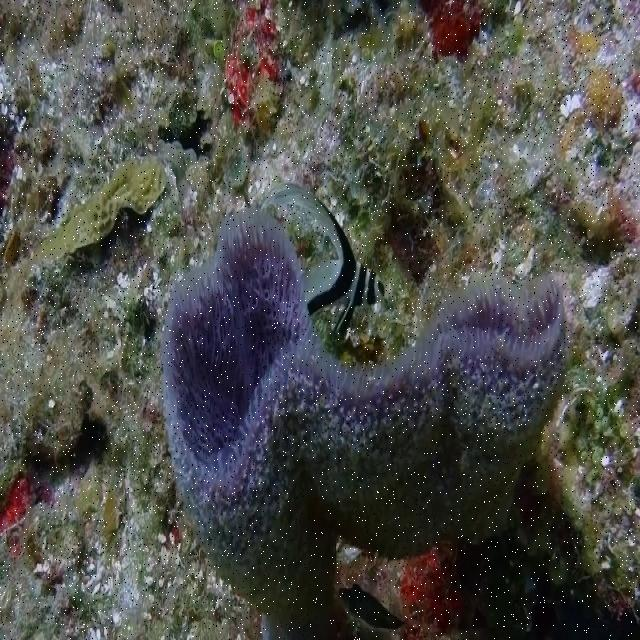fish: (266, 183, 385, 335)
reefs: (163, 208, 566, 638), (40, 161, 166, 258)
